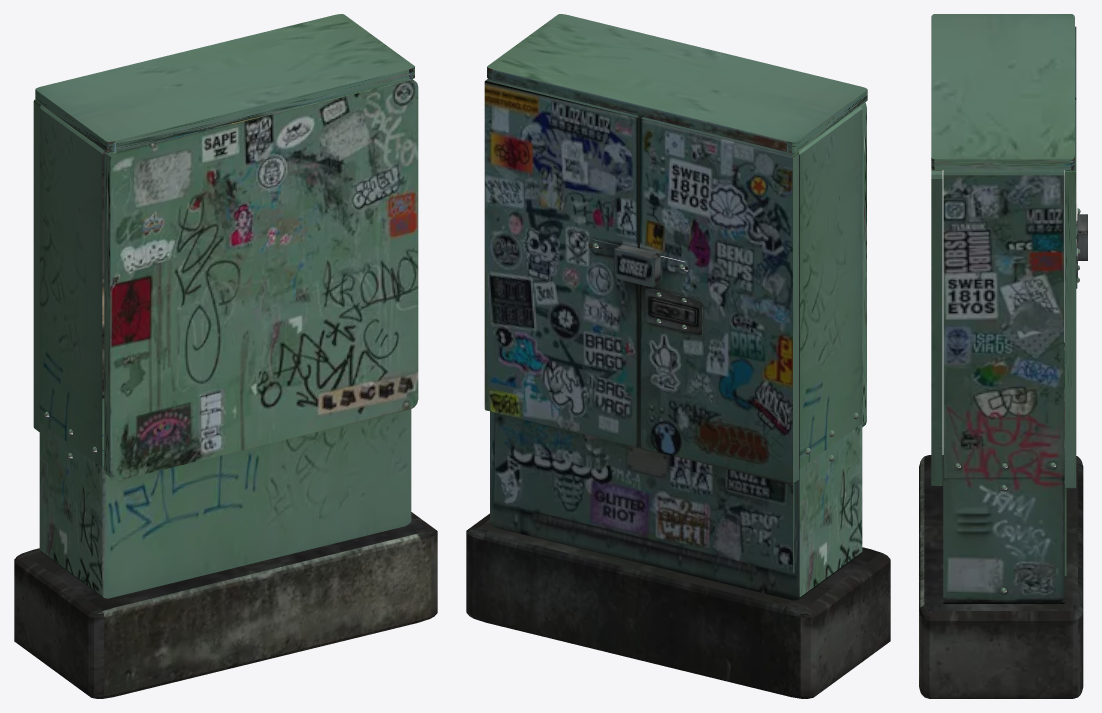
Rendered from street-box.glb.
3 renders of one model, left to right at view 1: azimuth 30°, elevation 25°; view 2: azimuth 150°, elevation 25°; view 3: azimuth 270°, elevation 25°, orthographic. The views are drawn at different scales.
Parts seen in each view (by area): view 1: BACK_COVER, BASE, CONCRETE, CAP_UP, LEFT_FRONT_DOOR; view 2: RIGH_TFRONT_DOOR, LEFT_FRONT_DOOR, CONCRETE, BASE, LOWER_METALLIC_TABLE, CAP_UP, PADLOCK, BACK_COVER, METAL_LOCK, LOCK, METAL_FASTENER; view 3: BASE, CAP_UP, CONCRETE, RIGH_TFRONT_DOOR, BACK_COVER, PADLOCK, LOWER_METALLIC_TABLE.
Part boxes in pixels (x1,y1,x2,y2): BACK_COVER: (104,79,418,480); BASE: (39,105,411,598); CONCRETE: (14,512,437,698); CAP_UP: (35,14,414,152); LEFT_FRONT_DOOR: (33,99,40,431); RIGH_TFRONT_DOOR: (484,79,642,446); LEFT_FRONT_DOOR: (640,117,798,484); CONCRETE: (466,513,890,698); BASE: (490,106,862,600); LOWER_METALLIC_TABLE: (495,412,794,573); CAP_UP: (487,14,867,152); PADLOCK: (614,244,660,287); BACK_COVER: (861,102,866,427); METAL_LOCK: (645,288,702,334); LOCK: (649,299,696,324); METAL_FASTENER: (588,239,688,274); BASE: (943,170,1064,603); CAP_UP: (931,14,1074,169); CONCRETE: (919,455,1083,698); RIGH_TFRONT_DOOR: (1065,99,1076,488); BACK_COVER: (931,168,942,485); PADLOCK: (1077,214,1087,260); LOWER_METALLIC_TABLE: (1064,343,1066,576).
Bounding box in the file's own units: 0.9258 × 1.4 × 0.401.
Materials: 1 (1 with a texture image).
